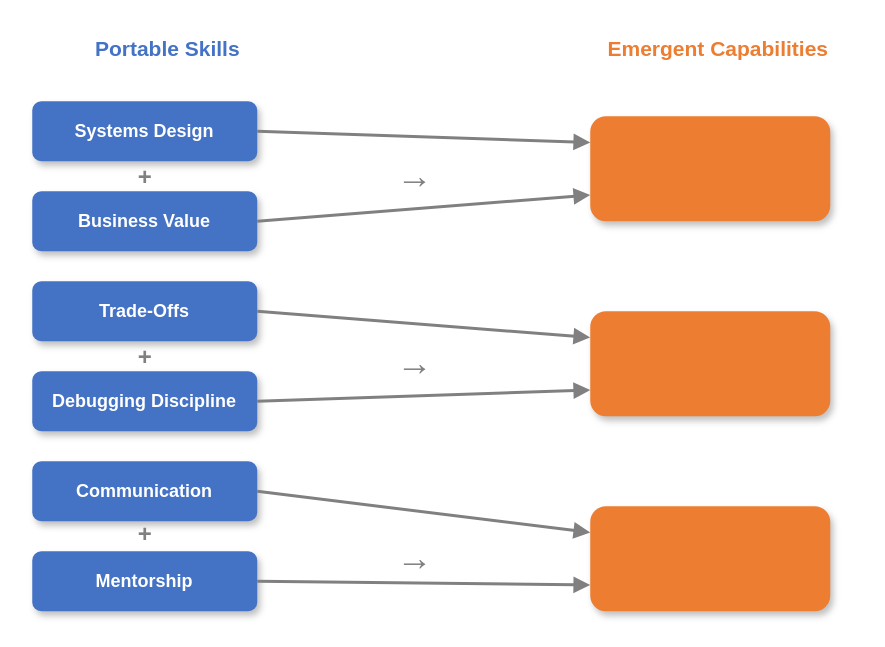
This 885x647 diagram has some shape labels left out. The shapes that lost their labels are listed below. From the top down, each one's centre as x and y in pixels, then its label:
At (x=711, y=170): "Visible Judgment".
At (x=711, y=365): "Trusted Problem Solver".
At (x=711, y=560): "Force Multiplier".
